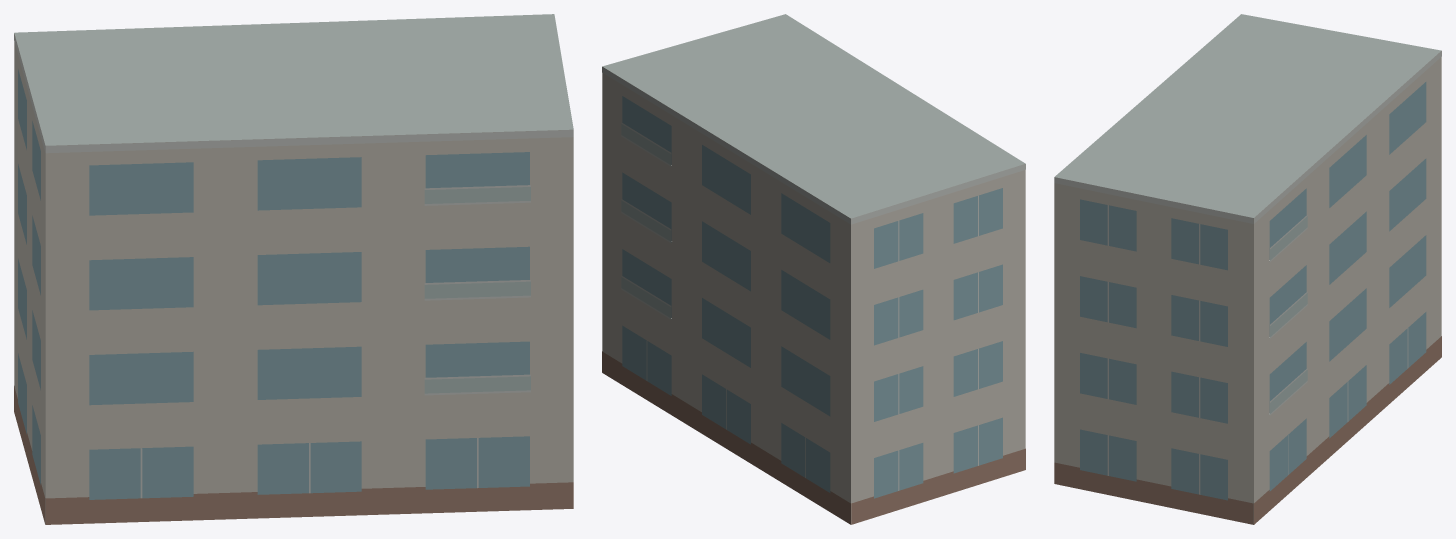
The model's file is survey-upis-32553139.glb.
3 renders of one model, left to right at view 1: azimuth 30°, elevation 25°; view 2: azimuth 150°, elevation 25°; view 3: azimuth 270°, elevation 25°, orthographic. The views are drawn at different scales.
Visible parts, largest first — view 1: survey-upis-32553139.tmp; view 2: survey-upis-32553139.tmp; view 3: survey-upis-32553139.tmp.
Part boxes in pixels (x1,y1,x2,y2): survey-upis-32553139.tmp: (14,14,573,524); survey-upis-32553139.tmp: (602,14,1025,524); survey-upis-32553139.tmp: (1054,14,1441,524).
Bounding box in the file's own units: 17.7 × 12.4 × 14.2.
